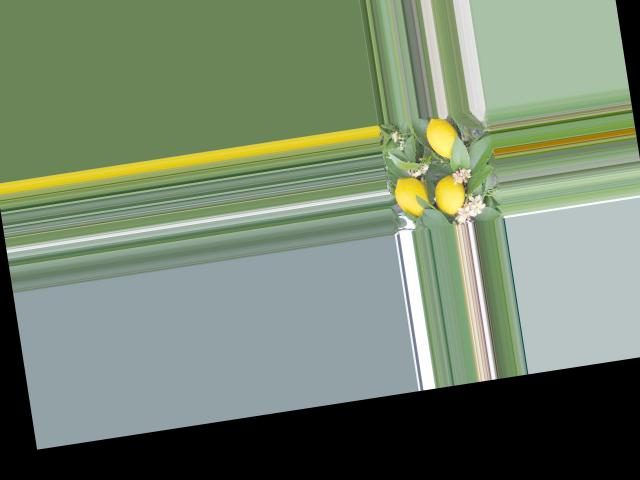lemon: (422, 115, 468, 166)
